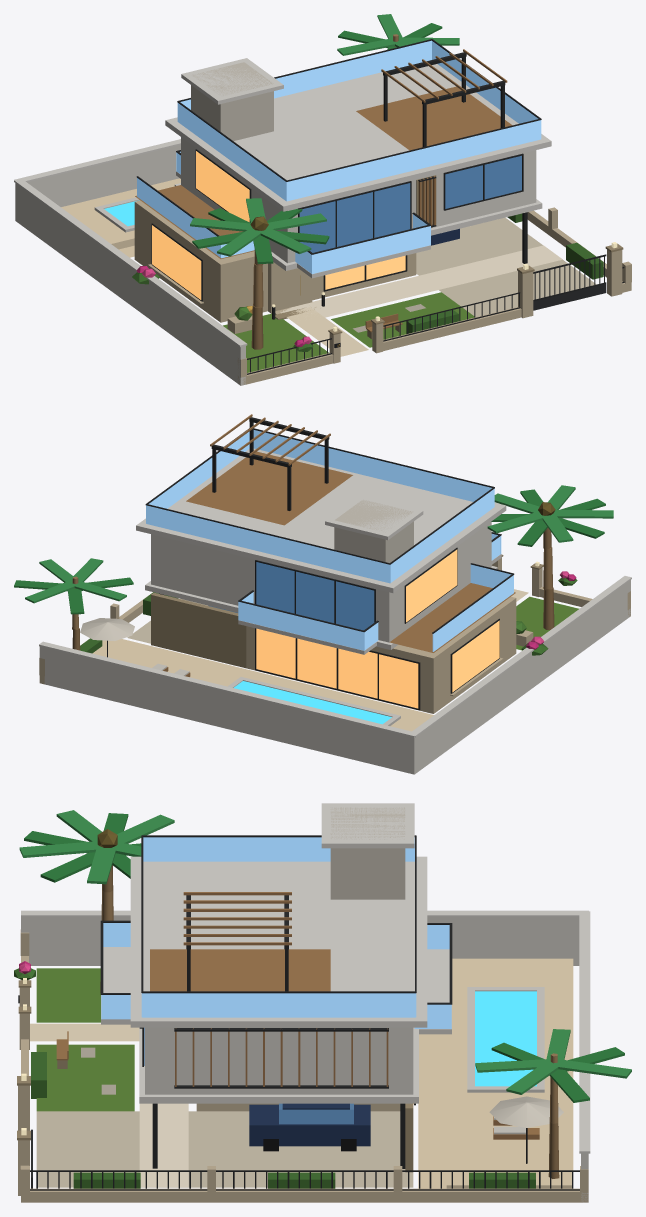
File: villa-c1.glb
3 renders of one model, top to bottom at view 1: azimuth 30°, elevation 25°; view 2: azimuth 150°, elevation 25°; view 3: azimuth 270°, elevation 25°, orthographic. The views are drawn at different scales.
Size of the model in its own units: 24.16 by 9.53 by 23.96.
